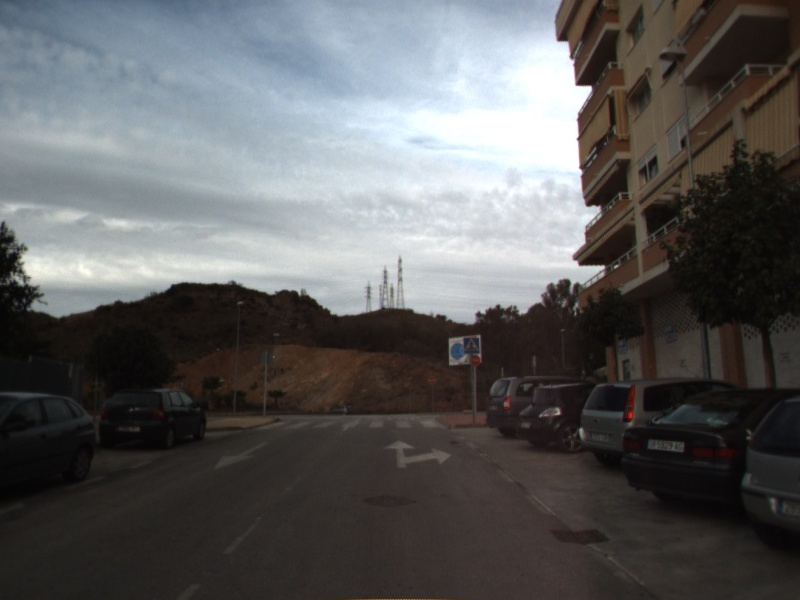STRAIGHT_RIGHT: (381, 437, 454, 470)
